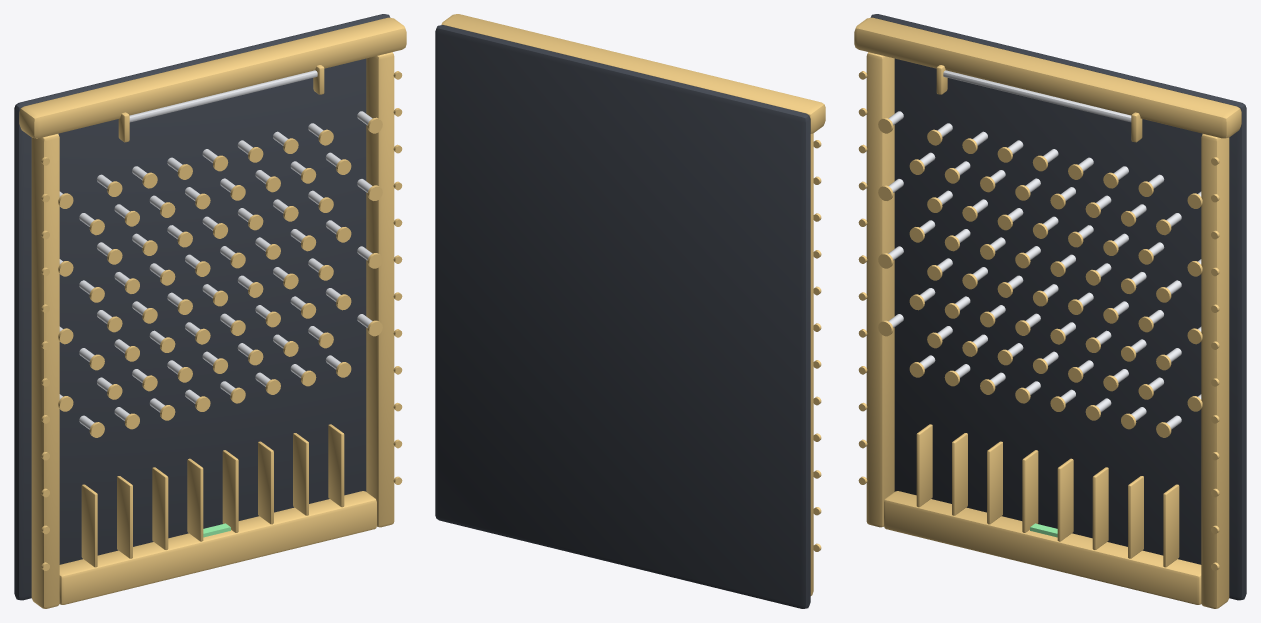
The model's file is SM_PlinkoBoard.fbx.
3 renders of one model, left to right at view 1: azimuth 30°, elevation 25°; view 2: azimuth 150°, elevation 25°; view 3: azimuth 330°, elevation 25°, orthographic.
Parts seen in each view (by area): view 1: SM_PlinkoBoard, Rail_L, Rail_R, Floor, Divider_1, Divider_4, Divider_8, Divider_3, Divider_5, Divider_6, Divider_2, Divider_7; view 2: SM_PlinkoBoard, Rail_L; view 3: SM_PlinkoBoard, Rail_R, Rail_L, Floor, Divider_1, Divider_5, Divider_8, Divider_6, Divider_4, Divider_3, Divider_7, Divider_2.
Boxes of the visible parts, box(x1,y1,x2,y2) form: SM_PlinkoBoard: box(14, 14, 406, 600); Rail_L: box(31, 134, 59, 608); Rail_R: box(366, 52, 394, 527); Floor: box(59, 491, 376, 604); Divider_1: box(81, 484, 97, 567); Divider_4: box(187, 458, 203, 541); Divider_8: box(328, 424, 344, 507); Divider_3: box(152, 467, 168, 549); Divider_5: box(222, 450, 238, 532); Divider_6: box(258, 441, 273, 524); Divider_2: box(117, 476, 132, 558); Divider_7: box(293, 433, 308, 515); SM_PlinkoBoard: box(435, 14, 825, 608); Rail_L: box(810, 133, 813, 595); SM_PlinkoBoard: box(854, 14, 1246, 600); Rail_R: box(1201, 134, 1229, 608); Rail_L: box(866, 52, 894, 527); Floor: box(884, 491, 1201, 604); Divider_1: box(916, 424, 932, 507); Divider_5: box(1057, 458, 1073, 541); Divider_8: box(1163, 484, 1179, 567); Divider_6: box(1092, 467, 1108, 549); Divider_4: box(1022, 450, 1038, 532); Divider_3: box(987, 441, 1002, 524); Divider_7: box(1128, 476, 1143, 558); Divider_2: box(952, 433, 967, 515).
Size of the model in its own units: 1.28 by 1.62 by 0.15.
